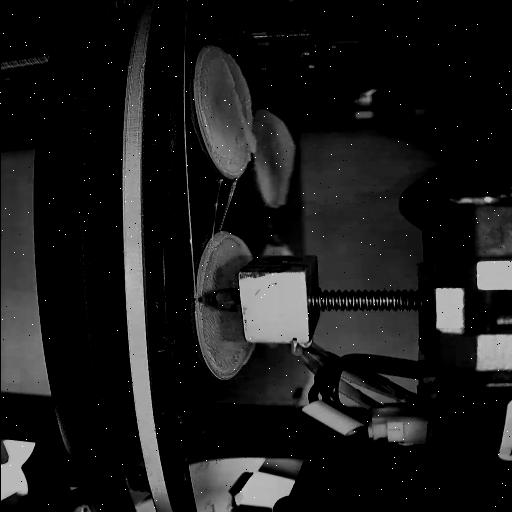over_extrusion: (219, 58, 258, 153), (270, 110, 300, 208), (204, 234, 254, 260), (241, 344, 257, 366)
